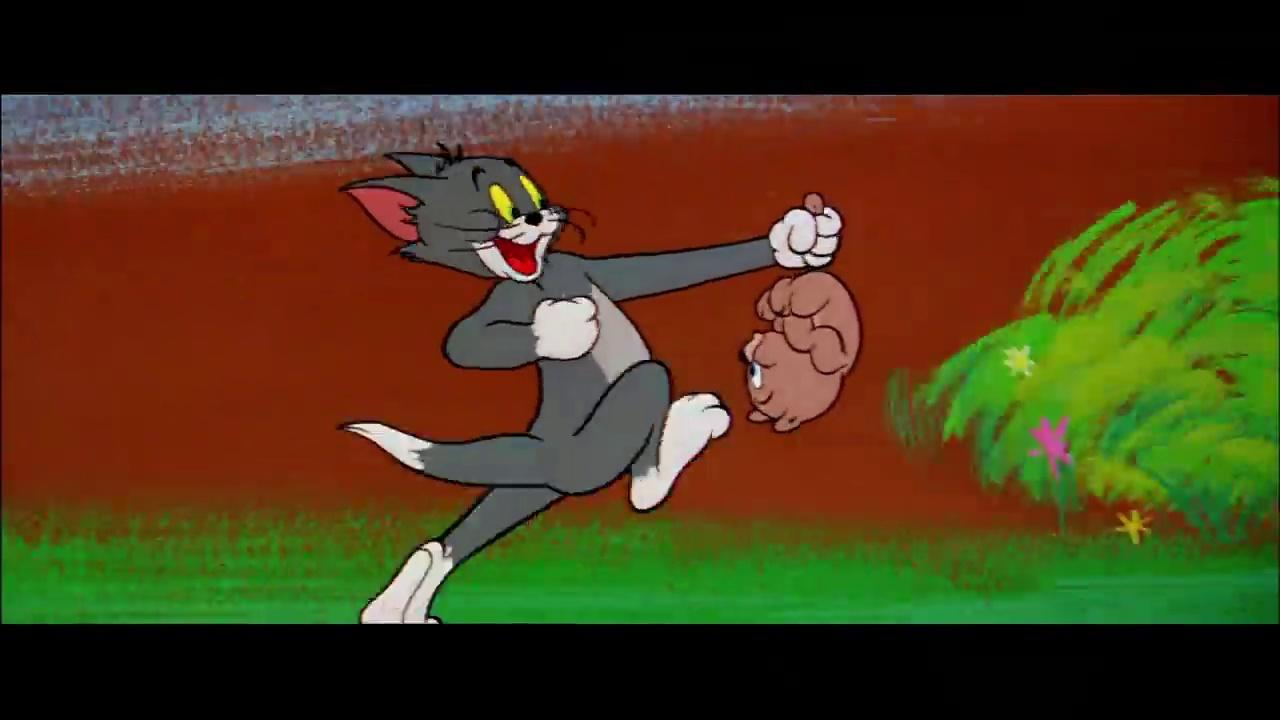Tom: (331, 143, 846, 624)
